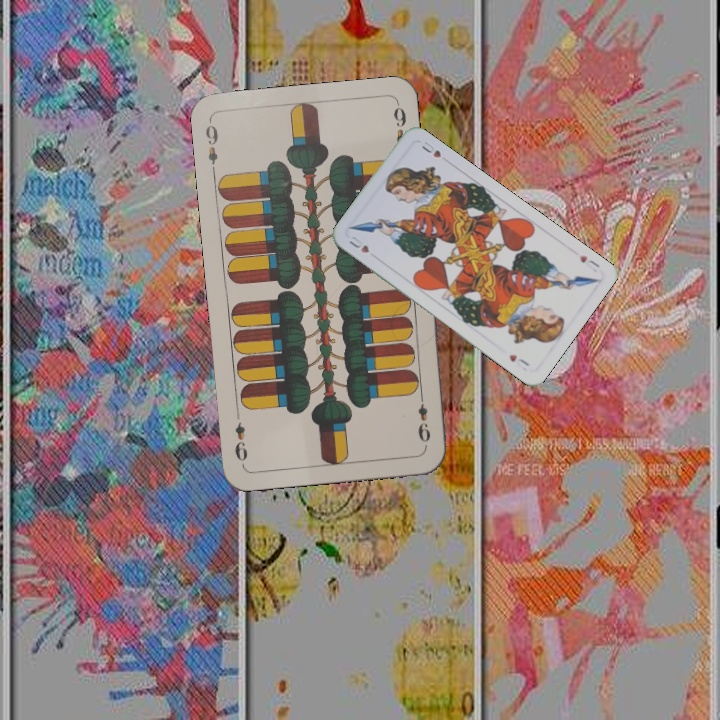E9: (201, 117, 221, 177), (414, 390, 433, 445)
HU: (345, 232, 372, 256), (575, 251, 602, 275)
